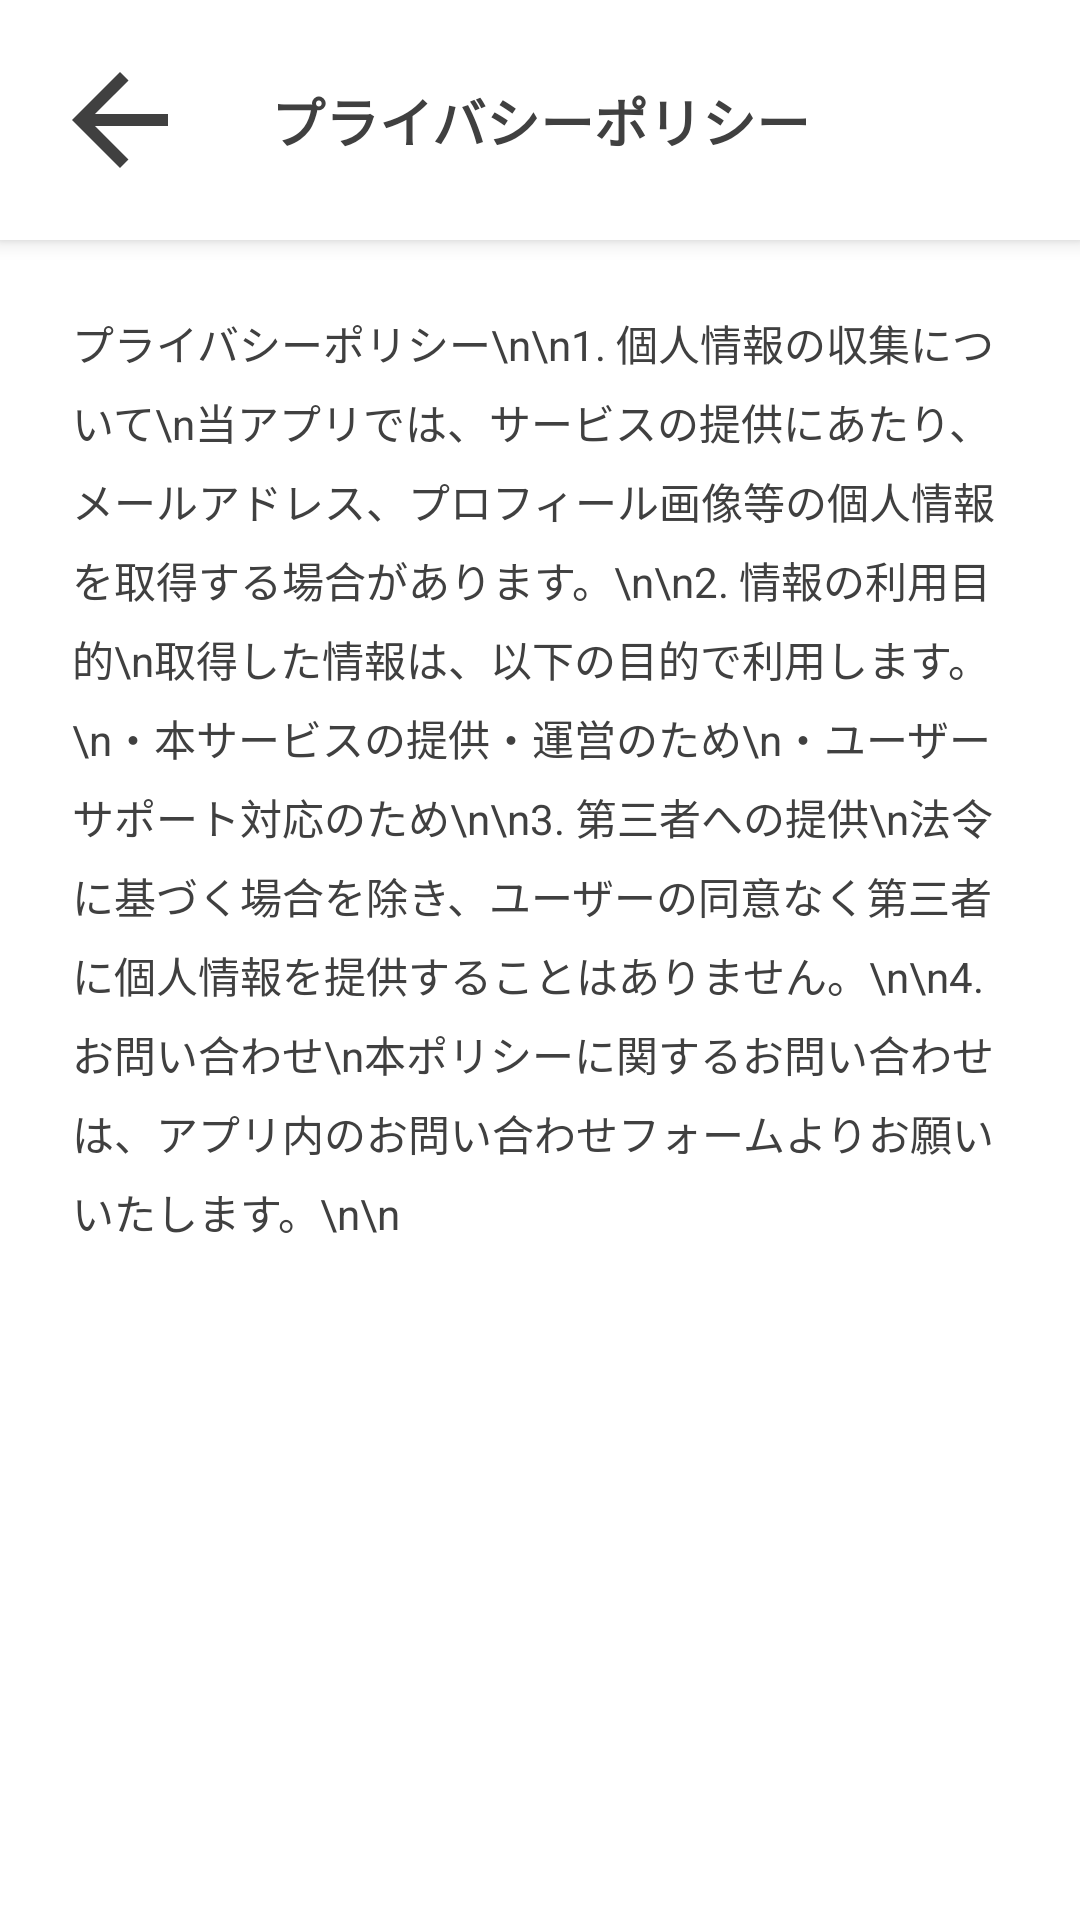

Icon bounding boxes for this 1080px×1920px phone screenshot, format bbox(x1, y1, x2, y2):
arrow back: bbox(72, 72, 168, 168)
